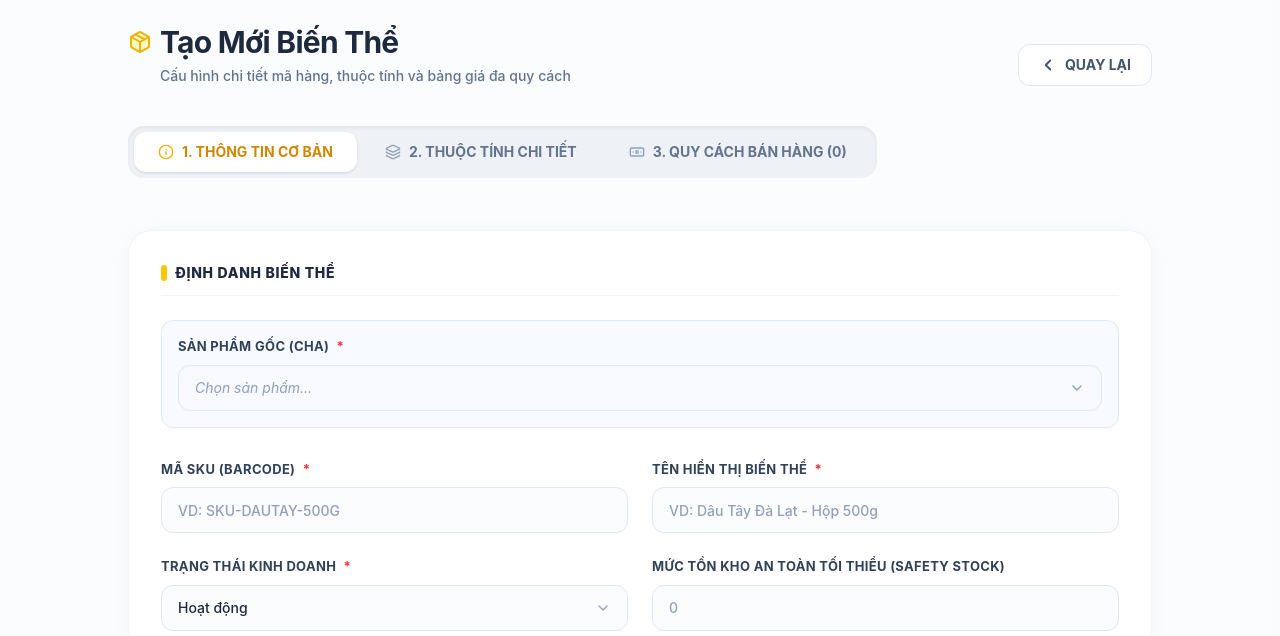
Test case: Module 05 - ProductVariantForm Component › TC04 - Thao tác thêm bảng giá quy cách bán hàng và đánh dấu giá mặc định
Chuyển sang Tab 3
Click the button "3. QUY CÁCH BÁN HÀNG (0)" at (738, 152), box [605,132,871,172]
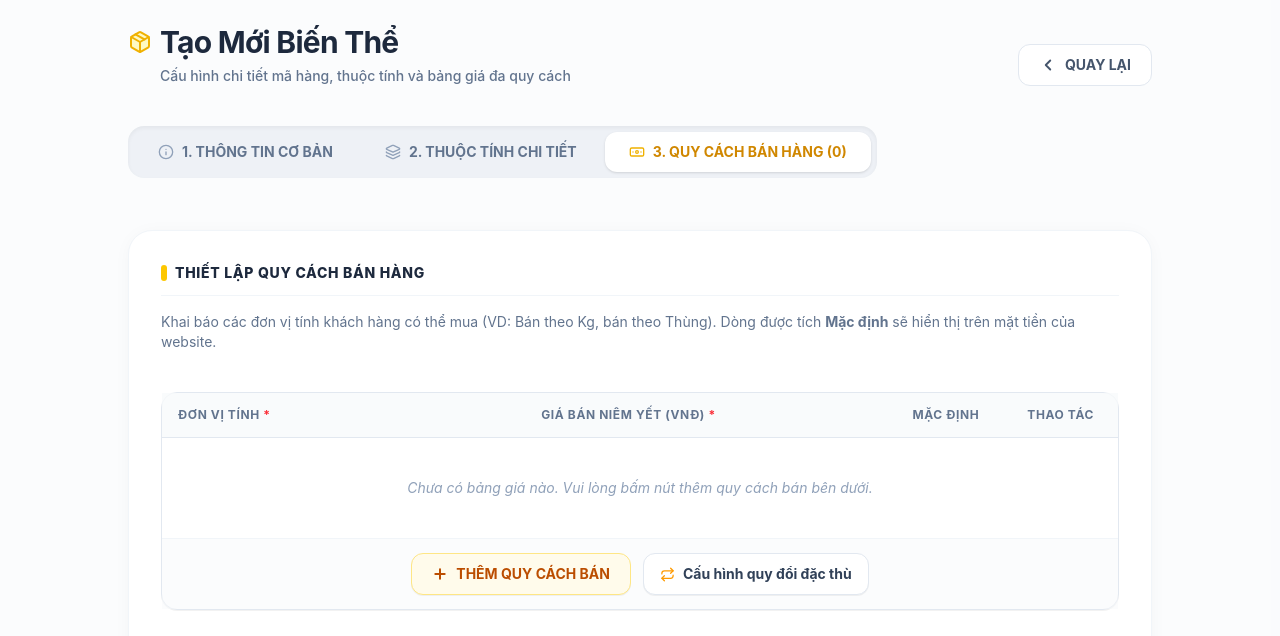
Bấm Thêm quy cách bán
Click the button "THÊM QUY CÁCH BÁN" at (521, 574), box [411,553,631,595]
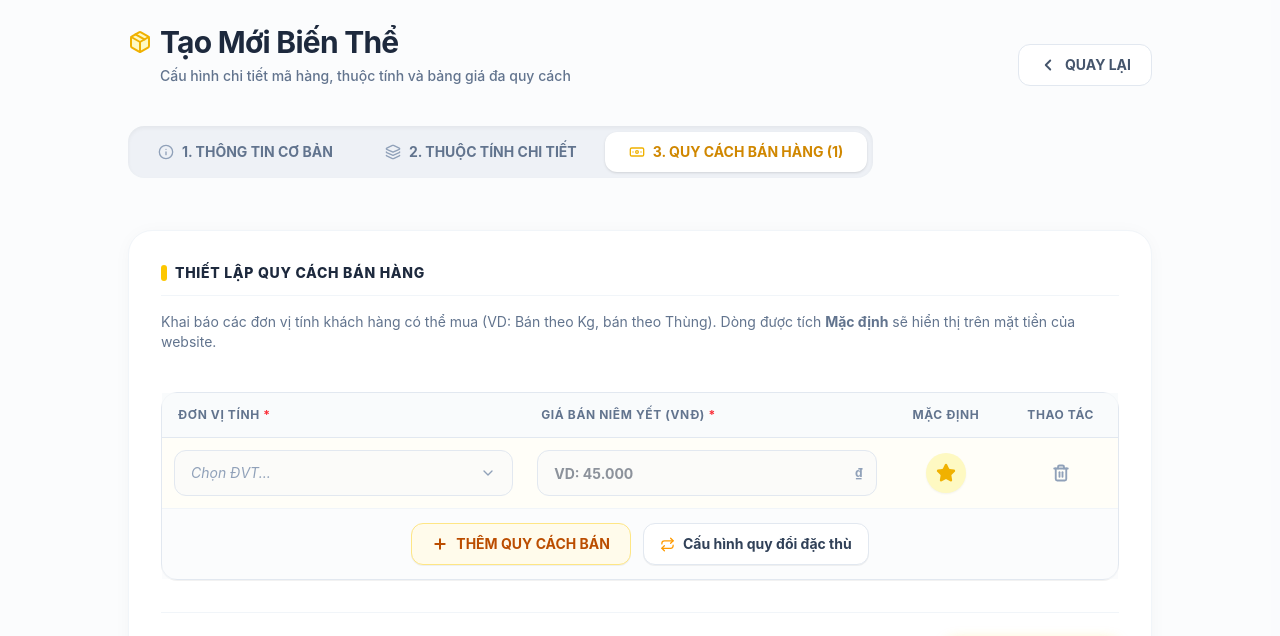
Result: the button titled "Đang làm mặc định" is shown at [926,453,966,493]
Thêm dòng thứ 2
Click the button "THÊM QUY CÁCH BÁN" at (521, 544), box [411,523,631,565]
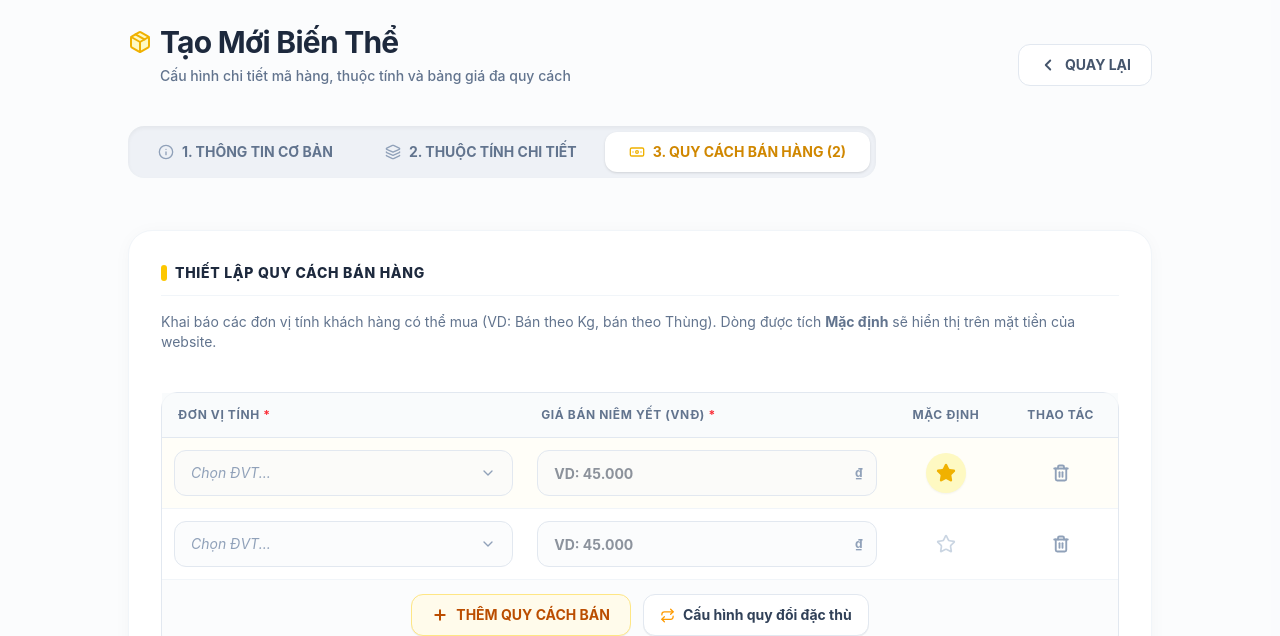
Result: the number of buttons titled "mặc định" is 2 at [926,453,966,493]; [926,524,966,564]
Bấm nút xóa dòng
Click the 2nd button titled "Xóa quy cách" at (1061, 544), box [1044,527,1078,561]
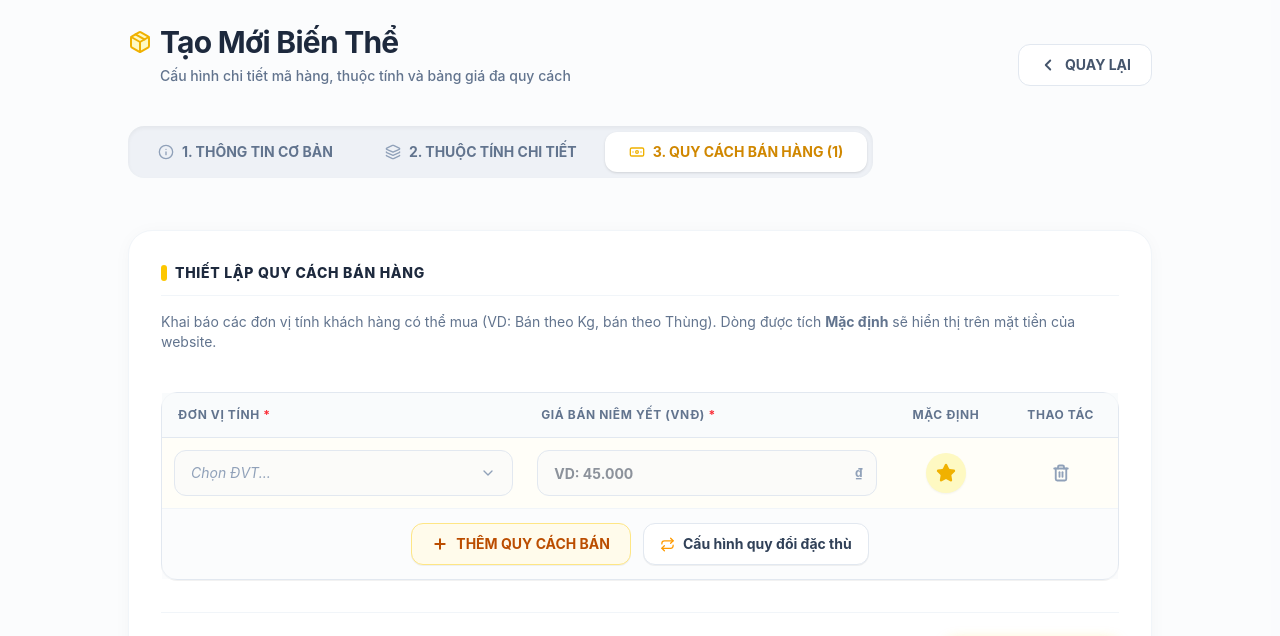
Result: the number of buttons titled "mặc định" is 1 at [926,453,966,493]
